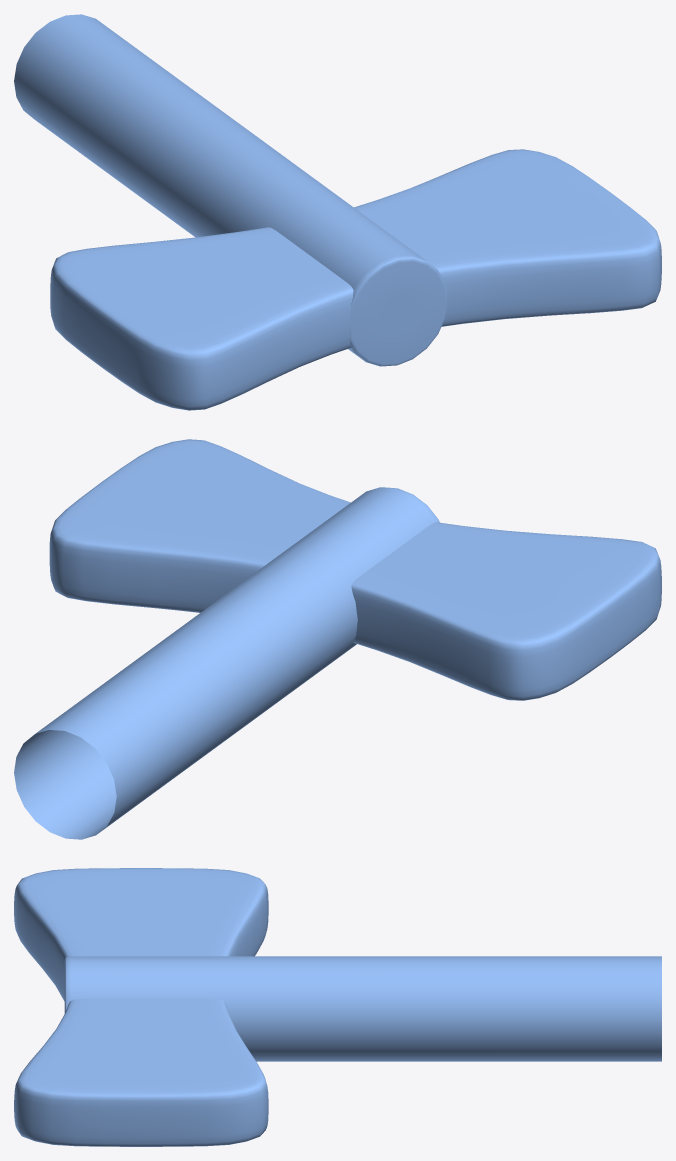
Rendered from key.fbx.
The picture shows the model from 3 angles, top to bottom: view 1: azimuth 30°, elevation 25°; view 2: azimuth 150°, elevation 25°; view 3: azimuth 270°, elevation 25°; orthographic projection. The views are drawn at different scales.
Parts seen in each view (by area): view 1: Key; view 2: Key; view 3: Key.
Part boxes in pixels (bbox=[...]): Key: bbox=[14, 14, 661, 410]; Key: bbox=[14, 439, 661, 839]; Key: bbox=[14, 868, 661, 1146].
Bounding box in the file's own units: 2.86 × 0.5705 × 3.48.
